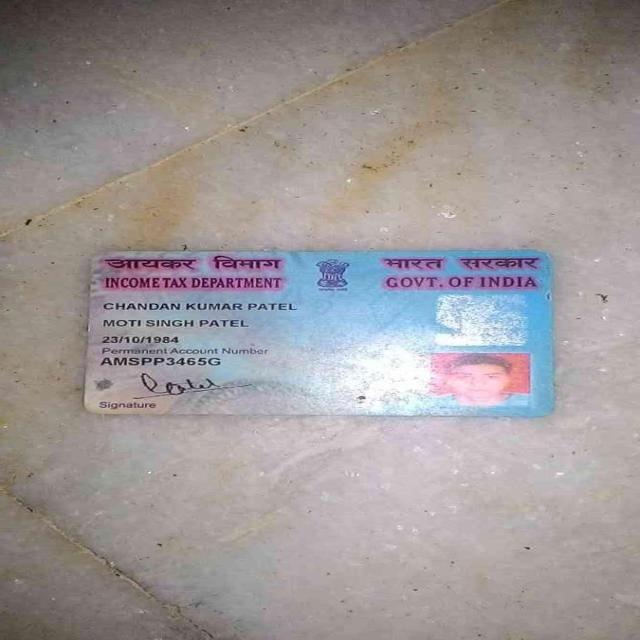pan_card: (85, 250, 550, 416)
